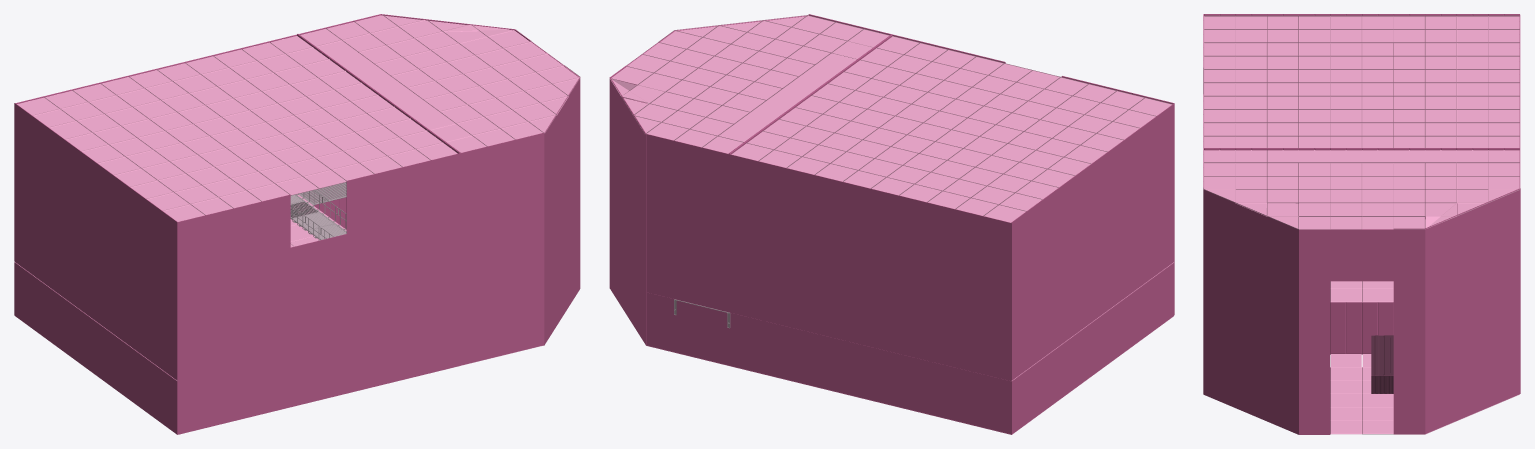
File: ROOM3_Model.fbx
3 renders of one model, left to right at view 1: azimuth 30°, elevation 25°; view 2: azimuth 150°, elevation 25°; view 3: azimuth 270°, elevation 25°, orthographic. The views are drawn at different scales.
Parts seen in each view (by area): view 1: polySurface750; view 2: polySurface750; view 3: polySurface750.
Boxes of the visible parts, box(x1,y1,x2,y2) form: polySurface750: box(14, 14, 580, 434); polySurface750: box(609, 14, 1174, 434); polySurface750: box(1203, 14, 1520, 434).
Bounding box in the file's own units: 6423 × 2890 × 4021.
6 materials, 4 textured.
